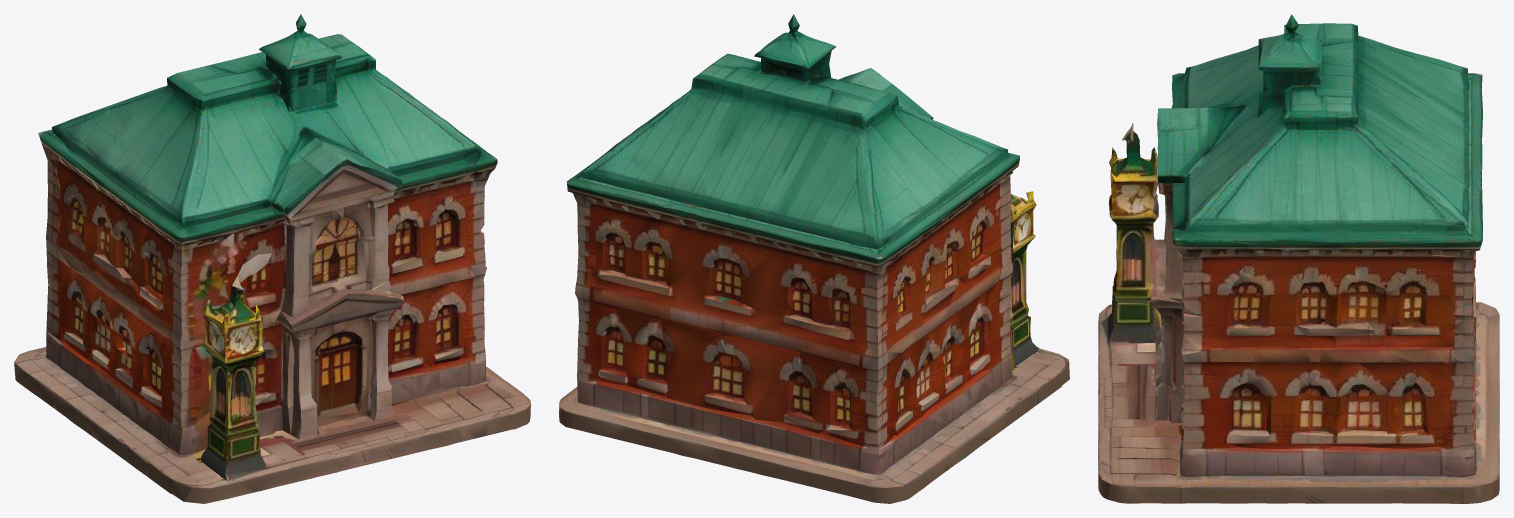
The model's file is otaru-music-box-museum.glb.
3 renders of one model, left to right at view 1: azimuth 30°, elevation 25°; view 2: azimuth 150°, elevation 25°; view 3: azimuth 270°, elevation 25°, orthographic. The views are drawn at different scales.
Parts seen in each view (by area): view 1: logan-textured.obj; view 2: logan-textured.obj; view 3: logan-textured.obj.
Boxes of the visible parts, x1,y1,x2,y2 form: logan-textured.obj: (14,14,530,503); logan-textured.obj: (559,14,1069,503); logan-textured.obj: (1098,14,1499,503).
Size of the model in its own units: 0.9703 by 1 by 0.8874.
1 material, 1 textured.
